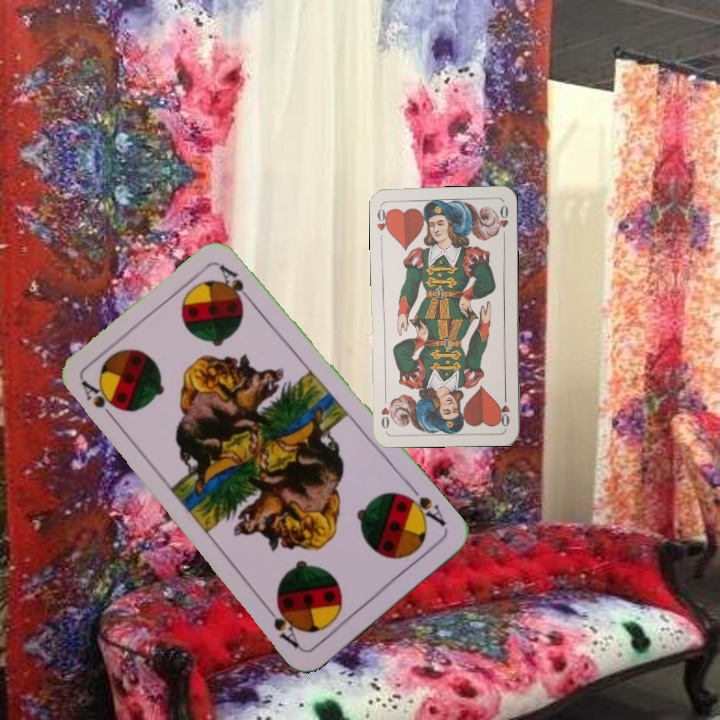HO: (496, 389, 512, 430), (373, 202, 392, 236)
SA: (398, 482, 449, 529), (78, 376, 120, 427)
